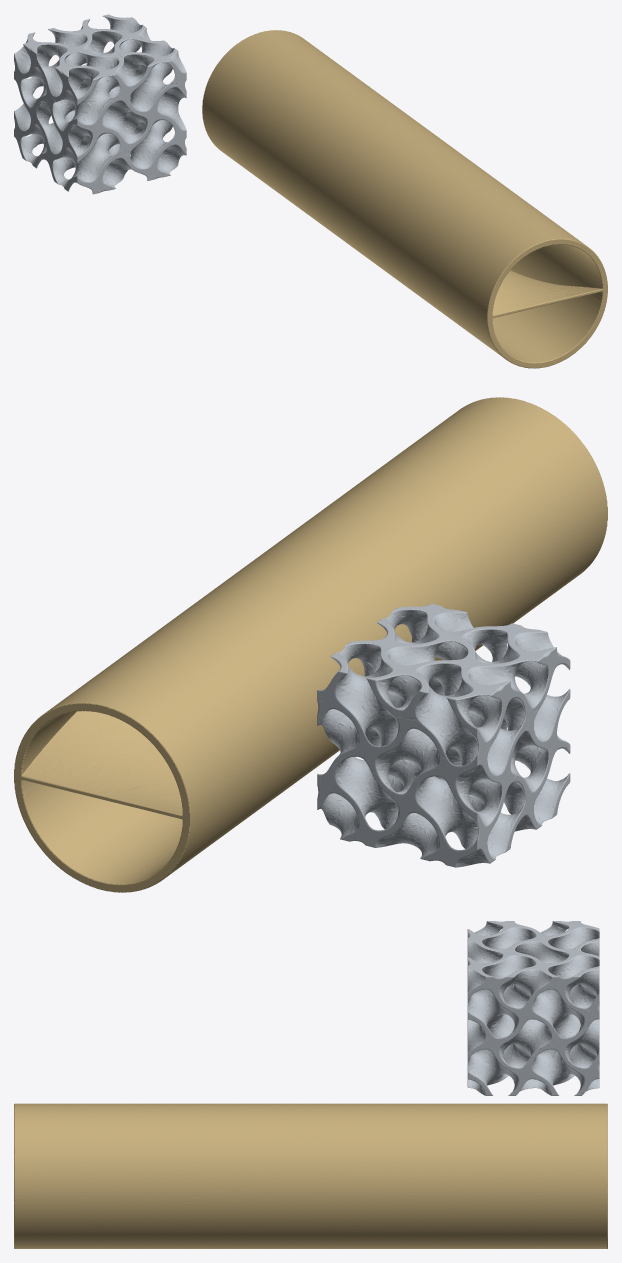
Rendered from coupons.glb.
3 views of the same model, one above another, from view 1: azimuth 30°, elevation 25°; view 2: azimuth 150°, elevation 25°; view 3: azimuth 270°, elevation 25° (orthographic). The views are drawn at different scales.
Visible parts, largest first — view 1: helical-metal, gyroid-metal; view 2: helical-metal, gyroid-metal; view 3: helical-metal, gyroid-metal.
Part boxes in pixels (x1,y1,x2,y2): helical-metal: (202, 30, 607, 368); gyroid-metal: (14, 14, 186, 194); helical-metal: (14, 397, 607, 892); gyroid-metal: (317, 603, 570, 867); helical-metal: (14, 1103, 607, 1248); gyroid-metal: (467, 921, 599, 1095).
Bounding box in the file's own units: 0.0228 × 0.0129 × 0.036.
